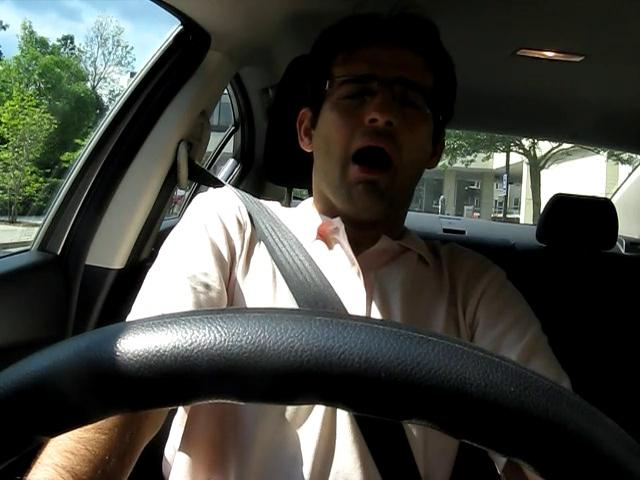close_eyeL: (324, 76, 379, 114)
close_eyeR: (388, 89, 443, 127)
yawn: (333, 135, 413, 182)
